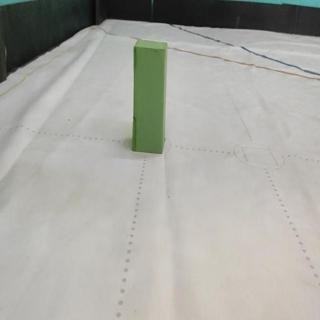greenbox: (133, 41, 166, 153)
